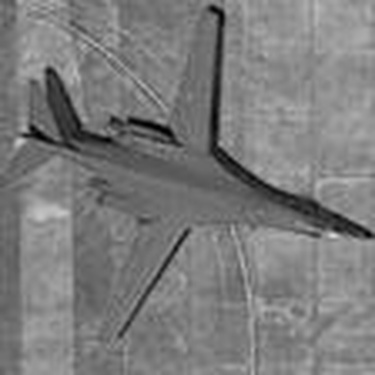airplane: (7, 6, 367, 367)
